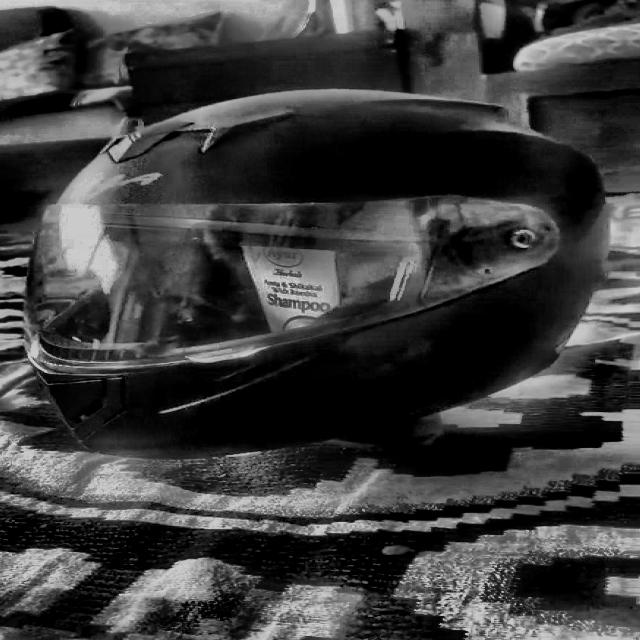Helmet: (19, 93, 594, 457)
